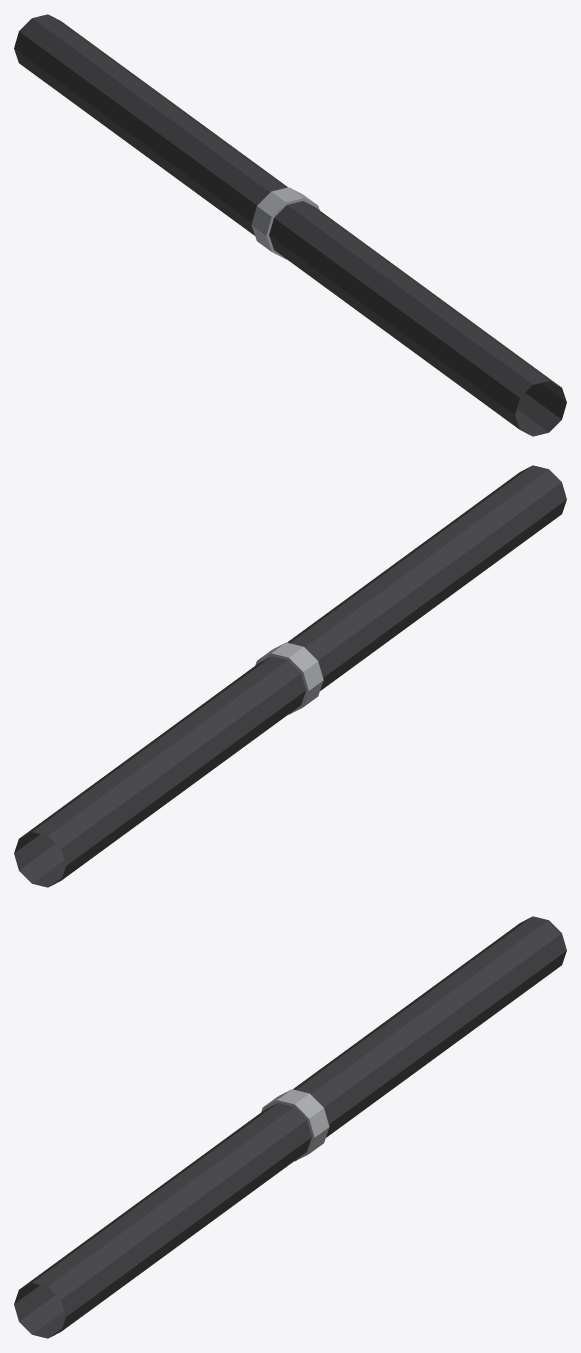
The model's file is SmallPipe03T3.fbx.
The picture shows the model from 3 angles, top to bottom: view 1: azimuth 30°, elevation 25°; view 2: azimuth 150°, elevation 25°; view 3: azimuth 330°, elevation 25°; orthographic projection.
Parts seen in each view (by area): view 1: SmallPipe03T3; view 2: SmallPipe03T3; view 3: SmallPipe03T3.
Part boxes in pixels (x1=…): SmallPipe03T3: x1=14, y1=14, x2=566, y2=436; SmallPipe03T3: x1=14, y1=465, x2=566, y2=887; SmallPipe03T3: x1=14, y1=916, x2=566, y2=1338.
Size of the model in its own units: 15.68 by 14.91 by 237.
